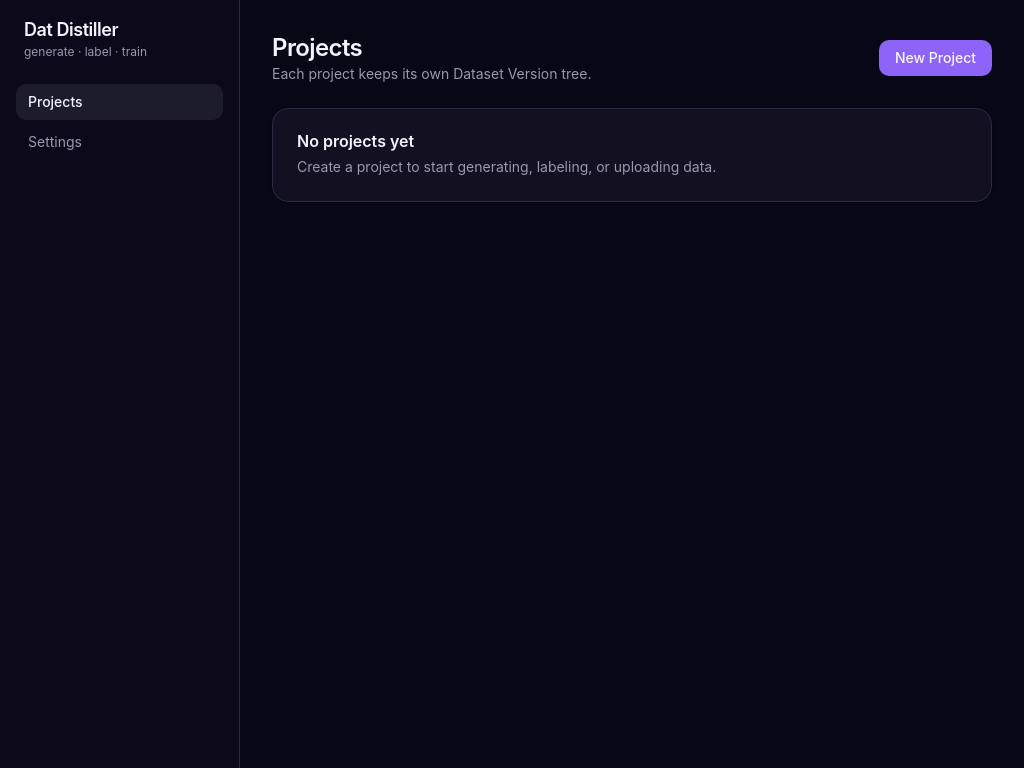
Test case: App shell › creates a project through the dialog
Click the button "New Project" at (935, 58), box [879,40,992,76]
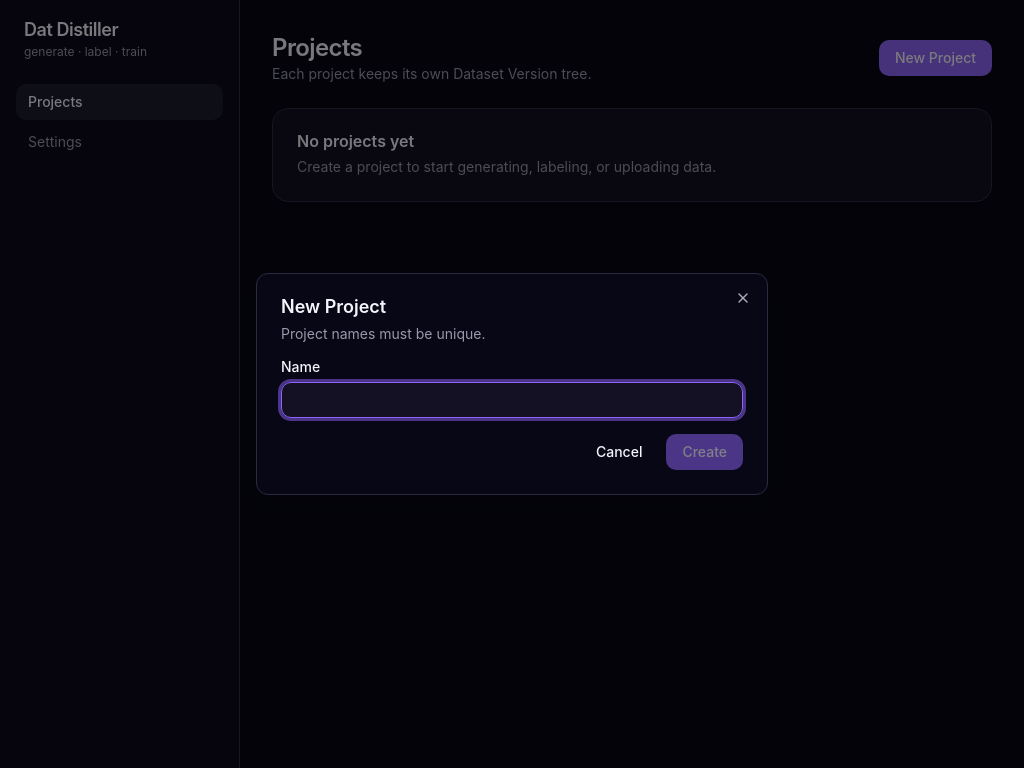
Type "Fresh" into the field labelled "Name" at (512, 400), box [281,382,743,418]
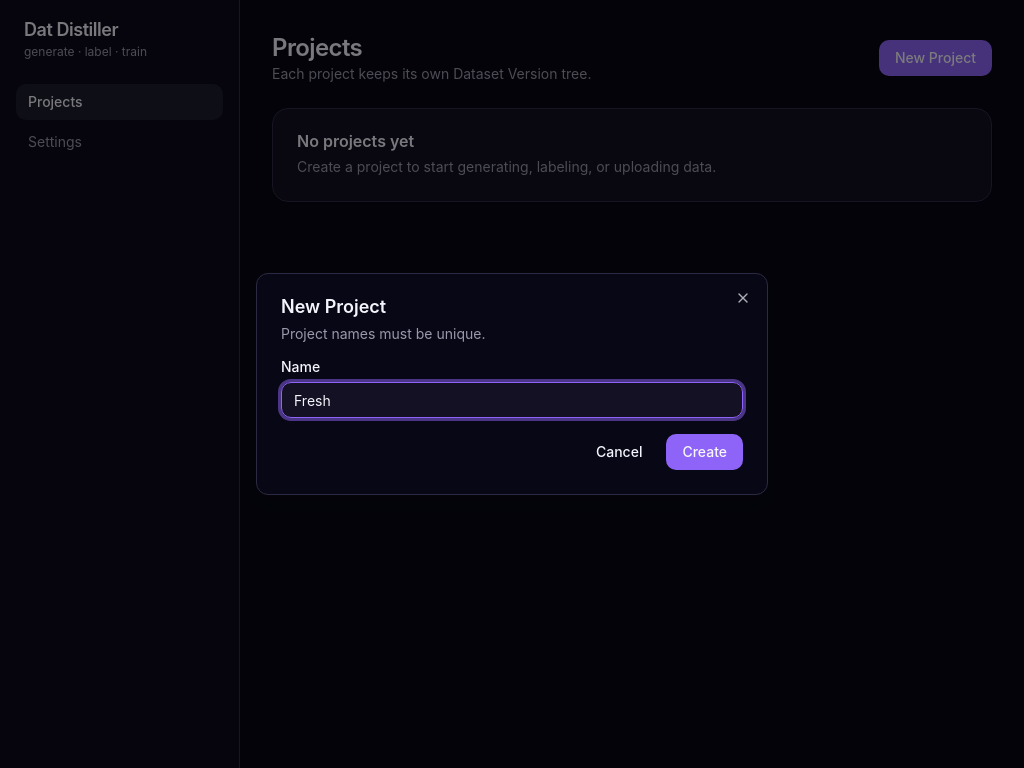
Click the button "Create" at (705, 452), box [666,434,743,470]
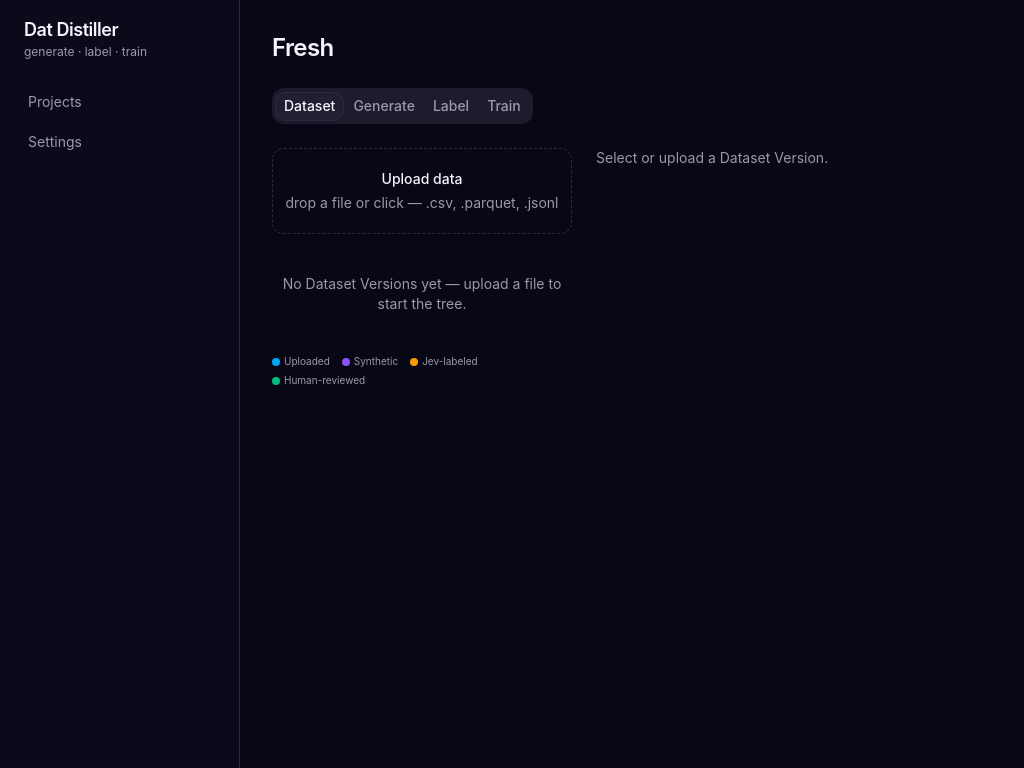
Result: the heading "Fresh" is shown at [272,32,334,64]
